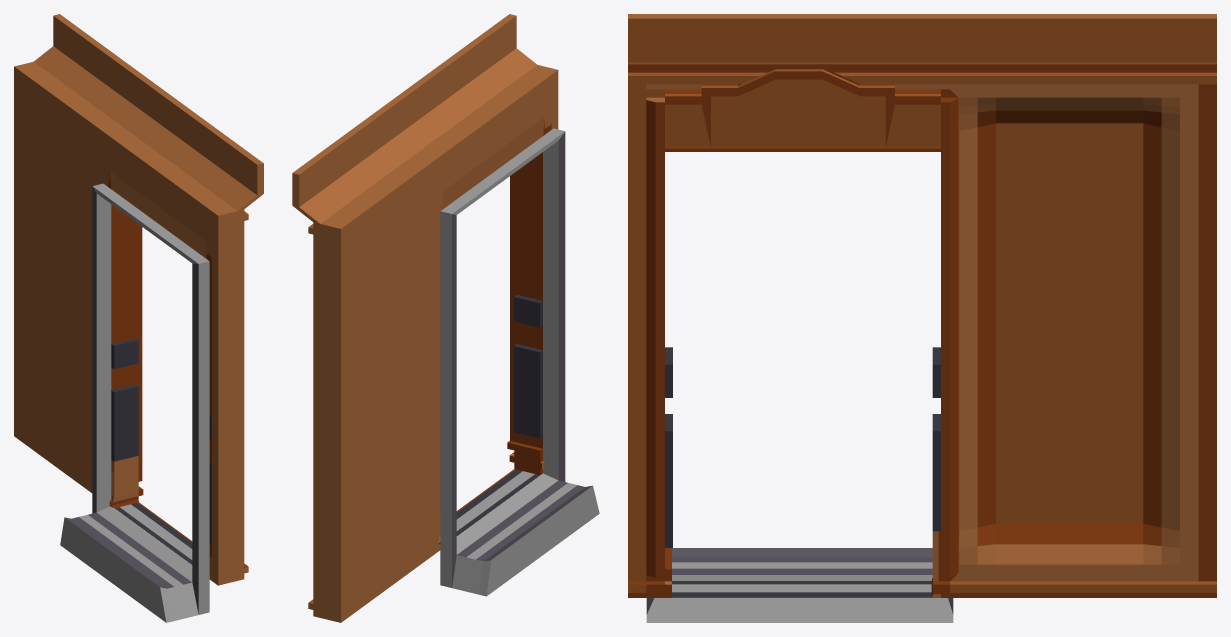
File: elevatorWallDoorFIXED3.fbx
3 renders of one model, left to right at view 1: azimuth 30°, elevation 25°; view 2: azimuth 150°, elevation 25°; view 3: azimuth 270°, elevation 25°, orthographic. The views are drawn at different scales.
Visible parts, largest first — view 1: elevatorWallDoor; view 2: elevatorWallDoor; view 3: elevatorWallDoor.
Boxes of the visible parts, box(x1,y1,x2,y2) form: elevatorWallDoor: box(14, 14, 263, 622); elevatorWallDoor: box(292, 14, 599, 622); elevatorWallDoor: box(628, 14, 1216, 622).
Bounding box in the file's own units: 64.37 × 299 × 250.
